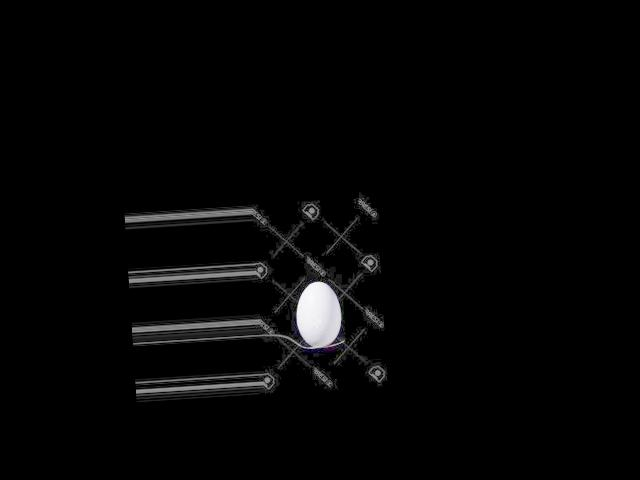egg: (294, 281, 343, 349)
